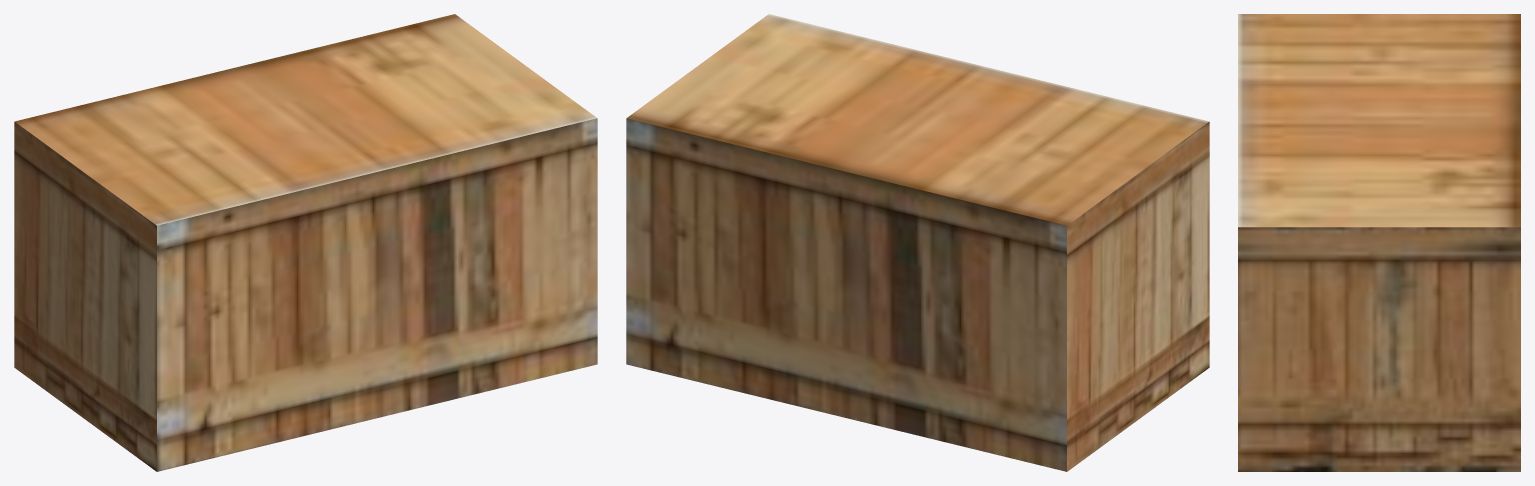
Rendered from russian_box_2.FBX.
3 renders of one model, left to right at view 1: azimuth 30°, elevation 25°; view 2: azimuth 150°, elevation 25°; view 3: azimuth 270°, elevation 25°, orthographic.
Visible parts, largest first — view 1: russian_box_2; view 2: russian_box_2; view 3: russian_box_2.
Boxes of the visible parts, left/top/right/bottom form: russian_box_2: left=14, top=14, right=597, bottom=471; russian_box_2: left=626, top=14, right=1209, bottom=471; russian_box_2: left=1238, top=14, right=1520, bottom=471.
Size of the model in its own units: 107 by 57.01 by 59.76.
